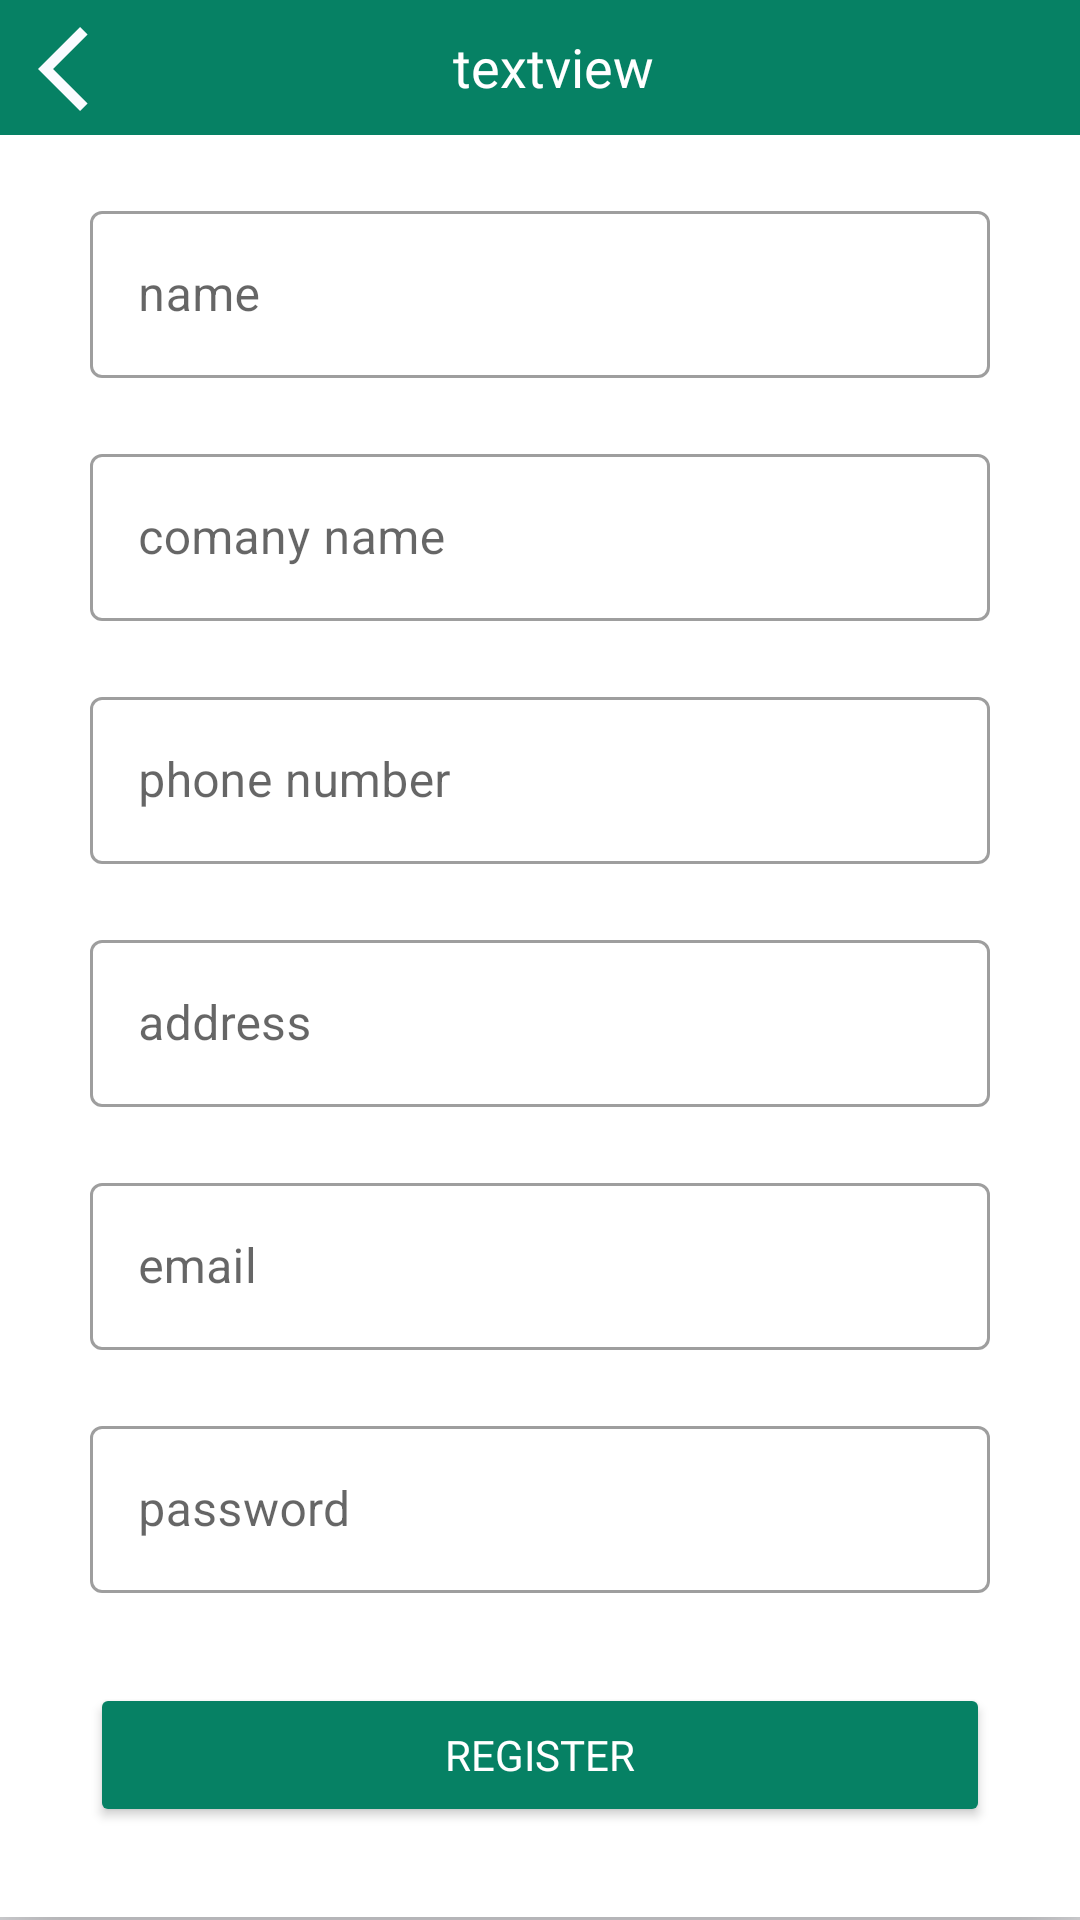

Named icons in this screenshot (1080px×1920px) and their bounding boxes, (x1, y1, x2, y2):
back: (38, 27, 88, 111)
